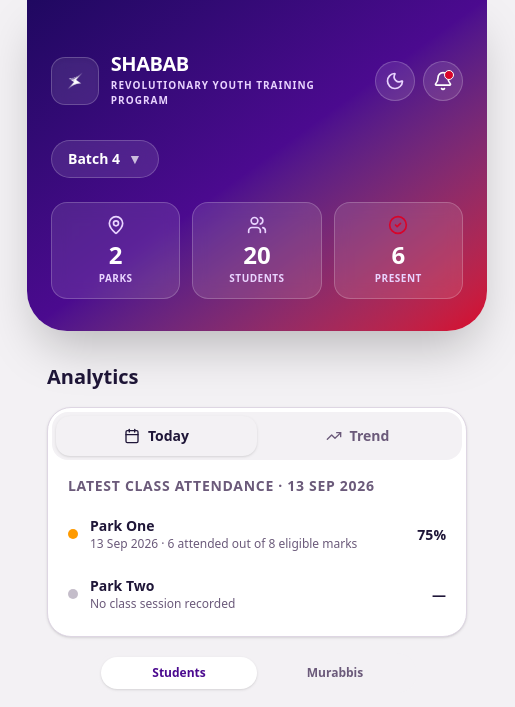
Test: MobileHomeDashboard › switches to real Murabbi latest sessions and period rows
The width and height of the screenshot is (515, 707).
Click the button "Murabbis": (335, 673) [257,657,413,689]
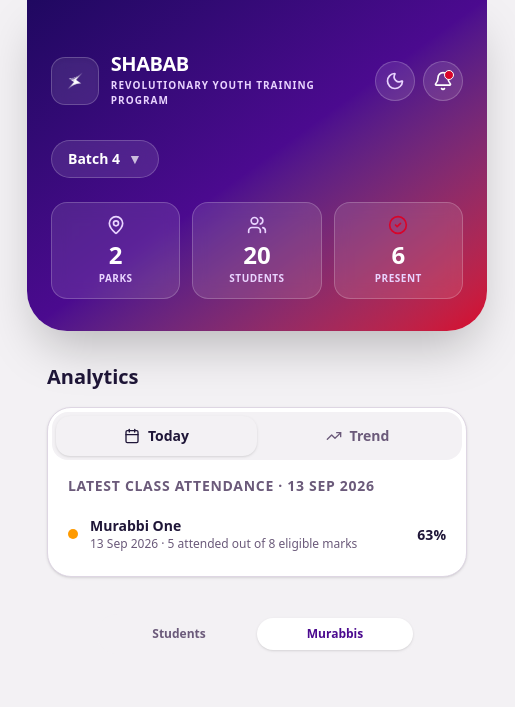
Expected: the text "Murabbi One" is shown, [90,516,181,535]
Expected: the text "13 Sep 2026 · 5 attended out of 8 eligible marks" is shown, [90,536,357,552]
Expected: the text "63%" is shown, [417,525,446,544]
Click the button "Trend": (358, 436) [257,416,458,456]
(page scrolled)
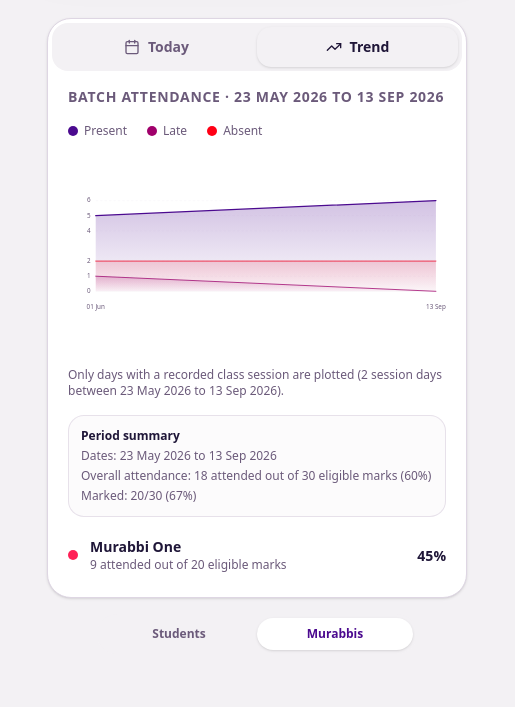
Expected: the text "9 attended out of 20 eligible marks" is shown, [90,557,287,573]
Expected: the text "45%" is shown, [417,546,446,565]
